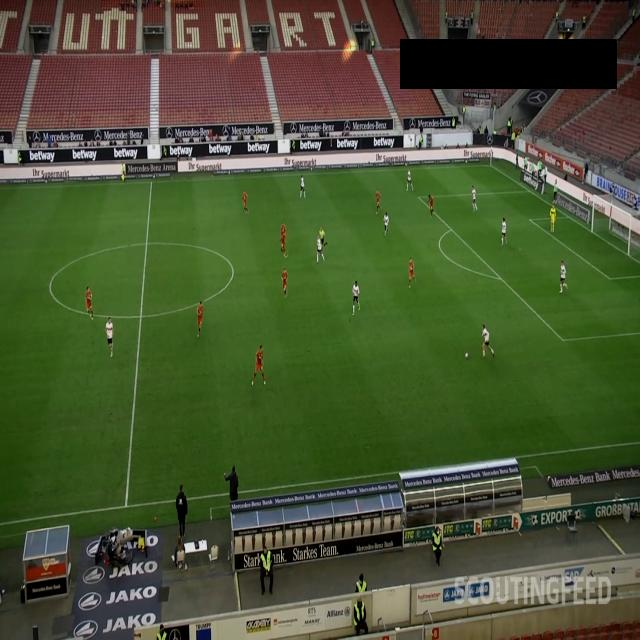ball: (463, 351, 470, 361)
f_player: (250, 346, 268, 388), (479, 325, 495, 359), (315, 226, 327, 262), (106, 318, 116, 358), (195, 301, 205, 337), (558, 261, 568, 293), (278, 223, 288, 254), (500, 217, 510, 247), (350, 282, 360, 312), (85, 288, 94, 320), (405, 166, 415, 194), (549, 207, 558, 235), (408, 258, 416, 288), (471, 186, 479, 212), (280, 268, 288, 294), (382, 214, 390, 238), (240, 191, 248, 213), (300, 178, 308, 200), (374, 190, 382, 212), (426, 194, 434, 214)
umpire: (120, 164, 130, 186)
